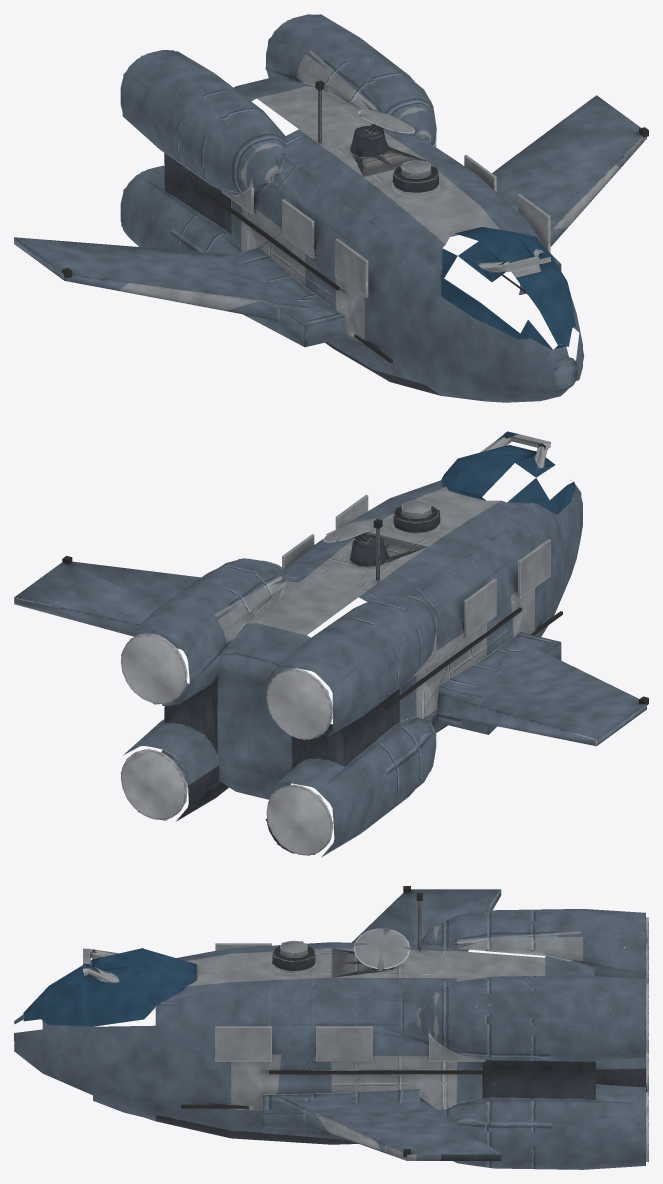
Rendered from sd_ship_kasif.glb.
The picture shows the model from 3 angles, top to bottom: view 1: azimuth 30°, elevation 25°; view 2: azimuth 150°, elevation 25°; view 3: azimuth 270°, elevation 25°; orthographic projection. The views are drawn at different scales.
Parts seen in each view (by area): view 1: LOD0_body, LOD1_body; view 2: LOD0_body, LOD1_body; view 3: LOD0_body, LOD1_body.
Boxes of the visible parts, x1,y1,x2,y2 form: LOD0_body: (14, 14, 648, 402); LOD1_body: (14, 14, 644, 401); LOD0_body: (14, 431, 648, 855); LOD1_body: (14, 435, 646, 857); LOD0_body: (14, 886, 648, 1169); LOD1_body: (14, 890, 648, 1168).
Bounding box in the file's own units: 0.9901 × 0.3884 × 1.
Materials: 1 (1 with a texture image).
